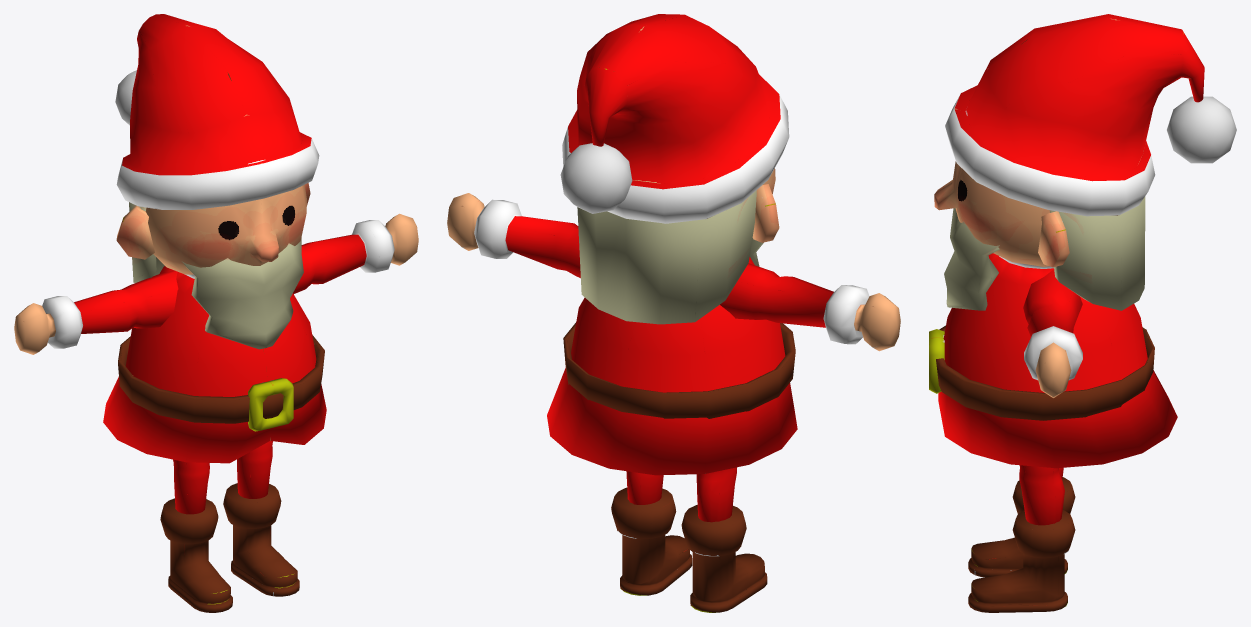
The model's file is santa-unity-test.fbx.
3 views of the same model, side by side, from view 1: azimuth 30°, elevation 25°; view 2: azimuth 150°, elevation 25°; view 3: azimuth 270°, elevation 25° (orthographic). The views are drawn at different scales.
Parts seen in each view (by area): view 1: Sphere, Sphere.001; view 2: Sphere, Sphere.001; view 3: Sphere, Sphere.001.
Part boxes in pixels (x1=…): Sphere: x1=14, y1=14, x2=418, y2=612; Sphere.001: x1=115, y1=70, x2=136, y2=125; Sphere: x1=447, y1=14, x2=900, y2=612; Sphere.001: x1=560, y1=143, x2=632, y2=213; Sphere: x1=929, y1=14, x2=1204, y2=612; Sphere.001: x1=1167, y1=96, x2=1236, y2=163.
Size of the model in its own units: 472 by 601 by 294.
